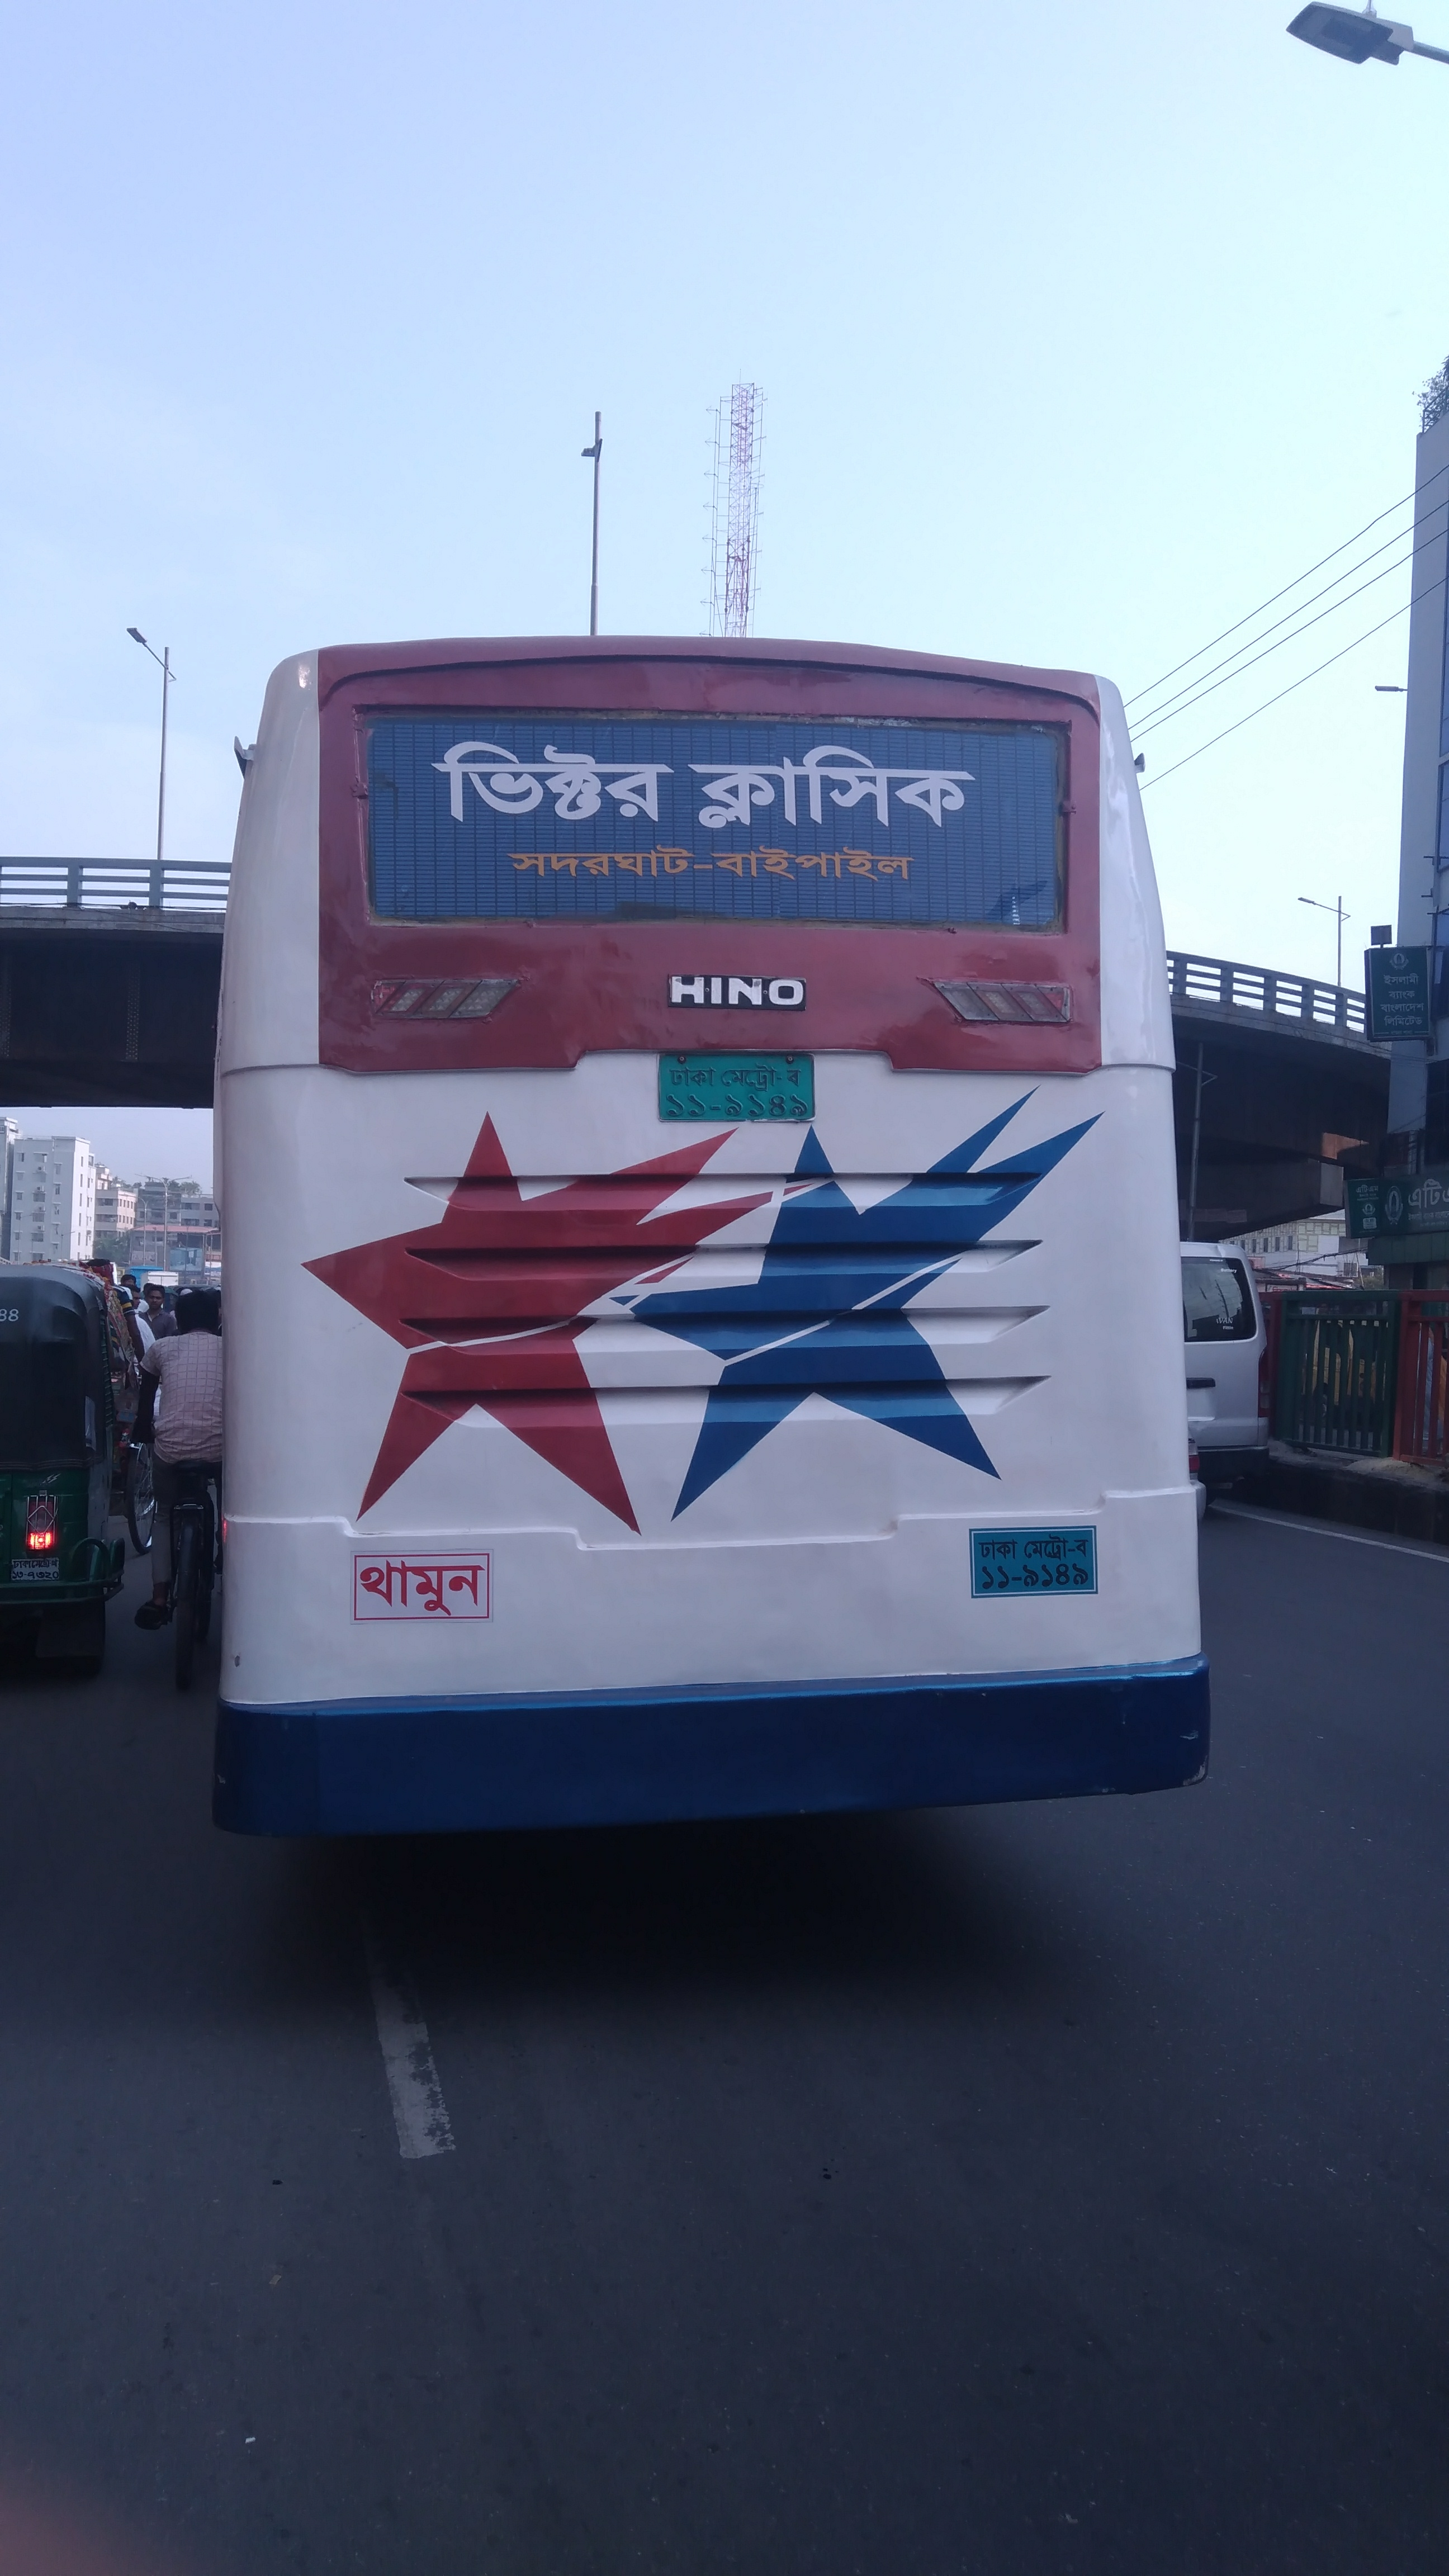bicycle: (154, 1481, 205, 1681)
bus: (218, 635, 1212, 1829)
car: (1196, 1233, 1276, 1490)
cng: (0, 1274, 126, 1663)
